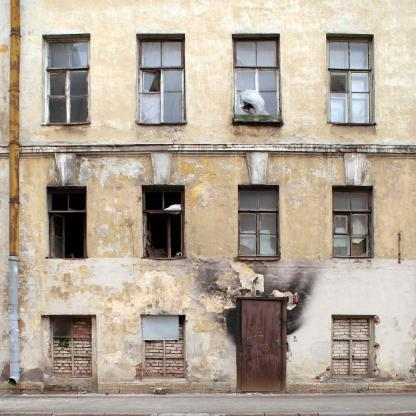Building Outline: (1, 1, 416, 394)
Door: (241, 301, 283, 392)
Facade: (1, 1, 416, 394)
Floor: (0, 1, 416, 143), (0, 157, 416, 277)
Floor Slab: (0, 277, 416, 292), (0, 143, 416, 158)
Ground Floor: (0, 291, 416, 394)
Window: (42, 34, 90, 124), (137, 34, 185, 123), (232, 34, 280, 123), (327, 34, 375, 123), (142, 184, 185, 258), (332, 186, 373, 257), (47, 187, 87, 259), (238, 185, 278, 256), (332, 315, 375, 379), (141, 315, 185, 377), (53, 316, 92, 377)
